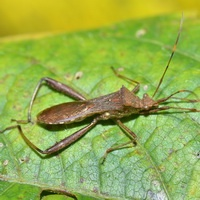insect: (0, 15, 199, 199), (19, 116, 110, 155), (27, 76, 91, 122)
